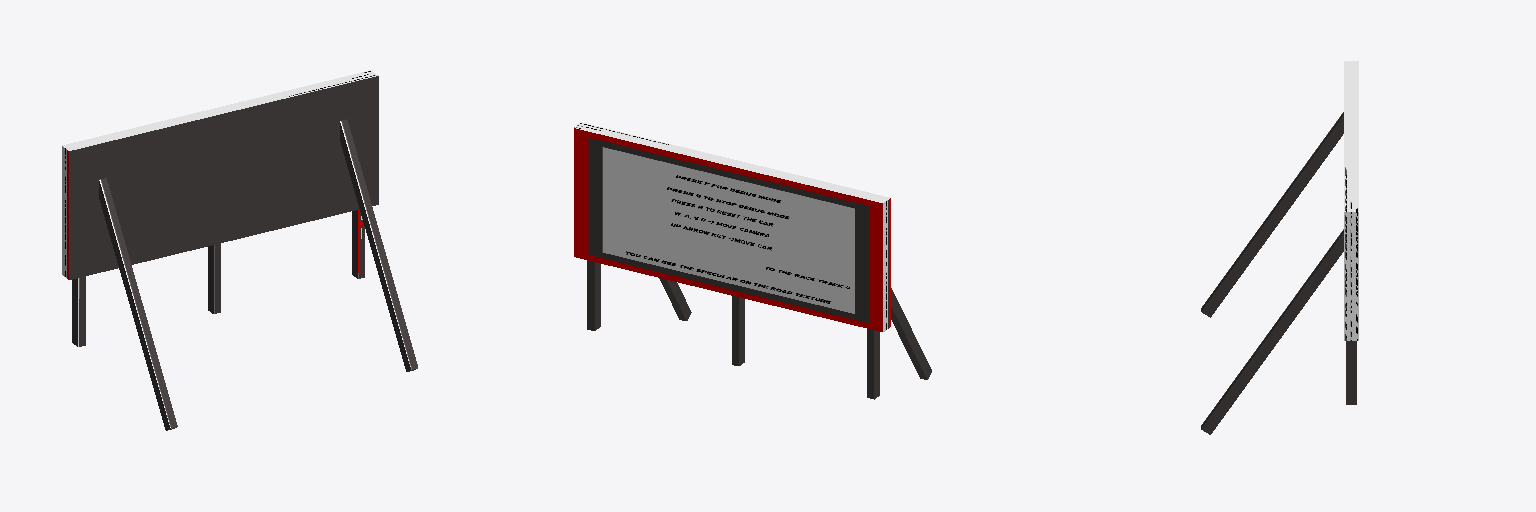
3 renders of one model, left to right at view 1: azimuth 30°, elevation 25°; view 2: azimuth 150°, elevation 25°; view 3: azimuth 270°, elevation 25°, orthographic.
Visible parts, largest first — view 1: Cube.004_Cube.006; view 2: Cube.004_Cube.006; view 3: Cube.004_Cube.006.
Part boxes in pixels (bbox=[...]): Cube.004_Cube.006: bbox=[62, 70, 417, 430]; Cube.004_Cube.006: bbox=[574, 122, 931, 399]; Cube.004_Cube.006: bbox=[1201, 61, 1358, 434].
Bounding box in the file's own units: 8.53 × 6.28 × 3.78.
Materials: 1 (1 with a texture image).